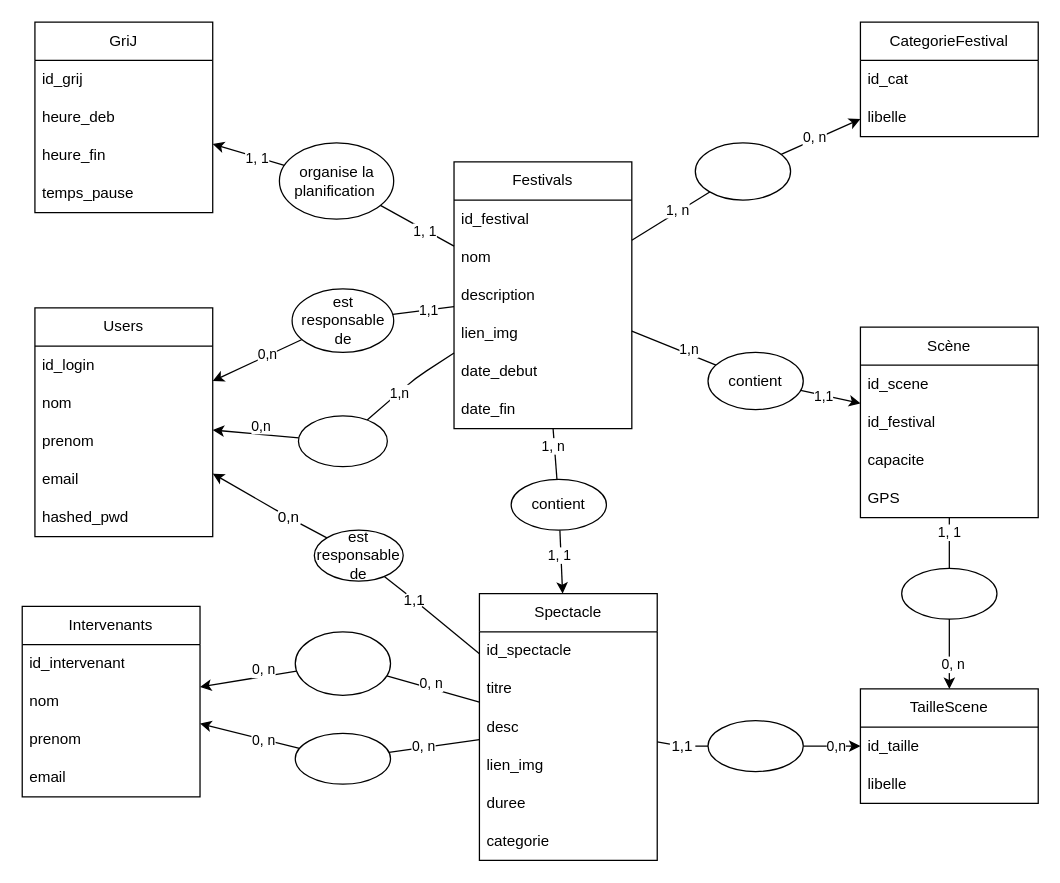
Image size: 1060x883. Some labels were removed from this diagram. Each missing label, with the centre of its shape:
"a besoin de" belongs at [755,745].
"a la taille" belongs at [948,593].
"appartient à" belongs at [742,171].
"est hors scene" belongs at [342,758].
"est sur scene" belongs at [342,663].
"organise" belongs at [342,441].
